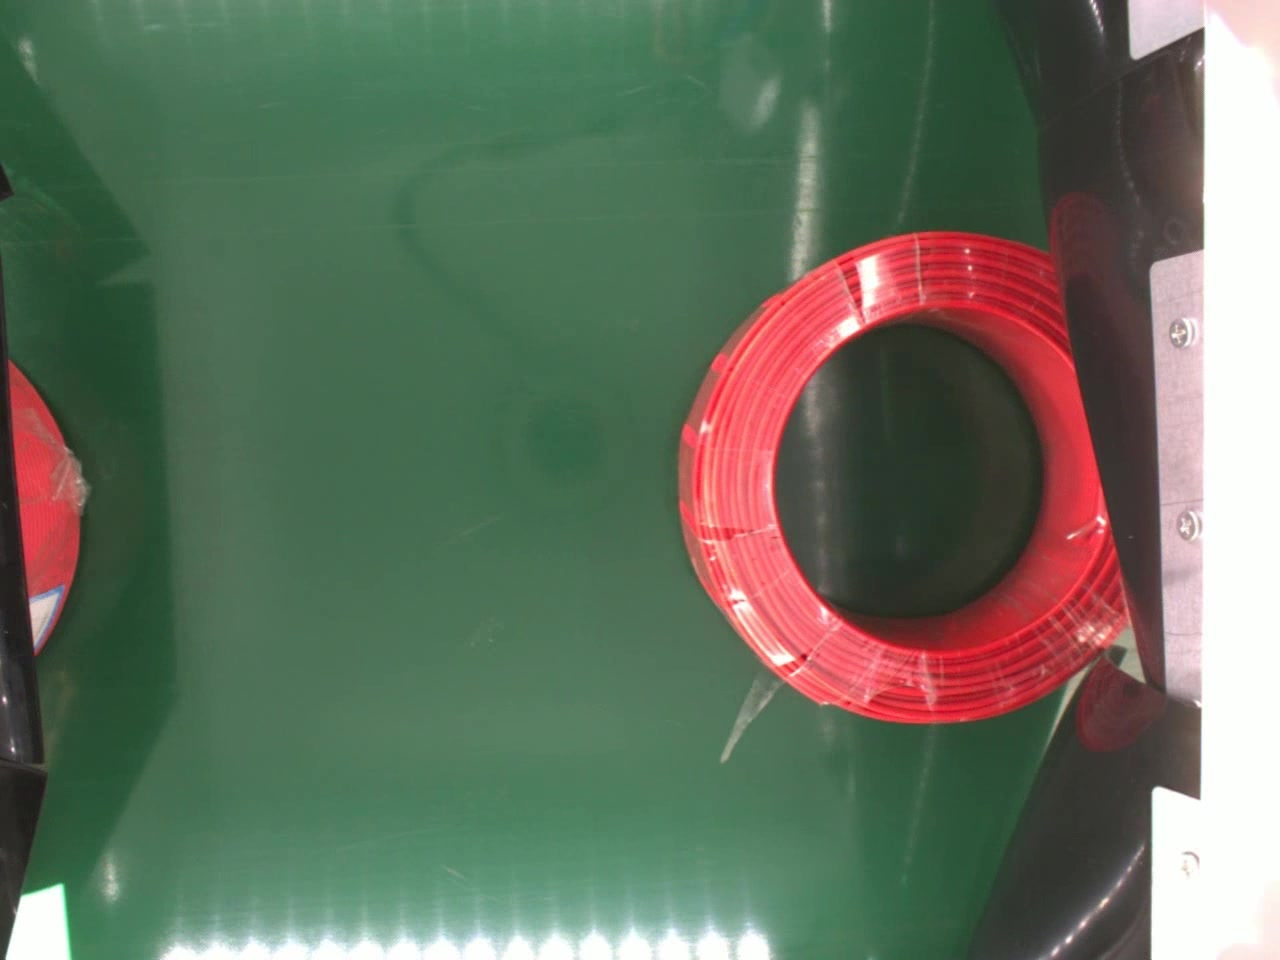red: (675, 227, 1138, 727)
